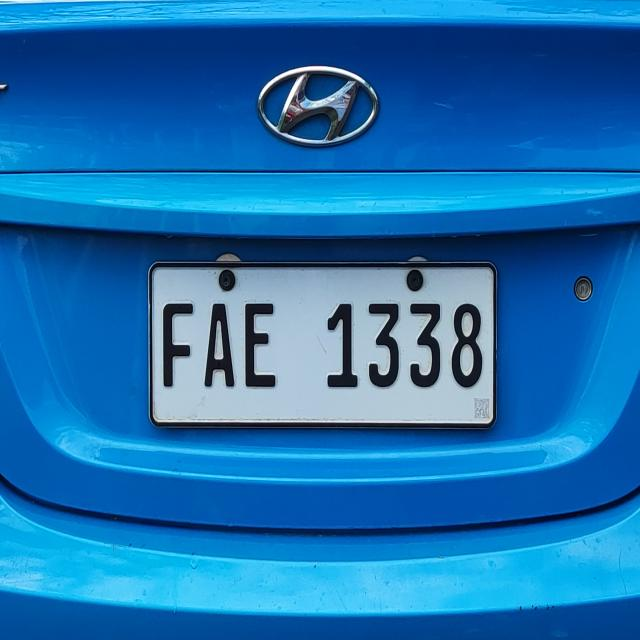plate: (146, 259, 499, 432)
